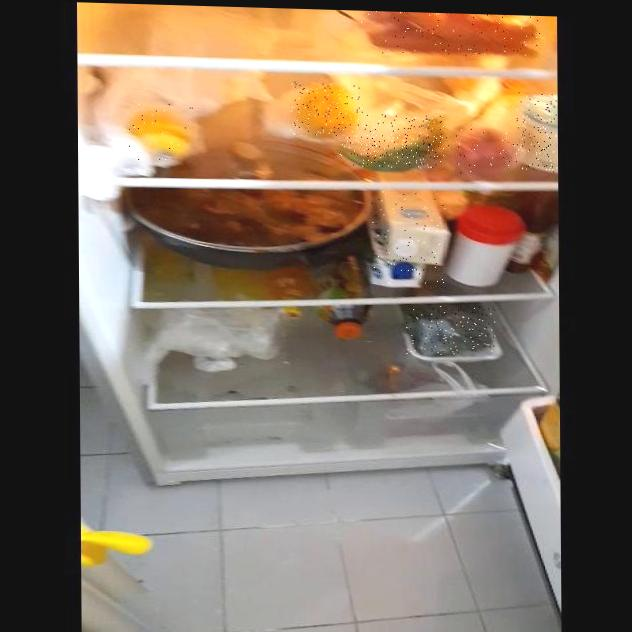broccoli: (406, 305, 496, 356)
carrot: (360, 11, 542, 58)
green chilies: (340, 113, 444, 169)
lemon: (128, 103, 197, 163), (291, 81, 363, 137)
milk: (372, 191, 447, 286)
tomato: (446, 126, 519, 175)
yoghurt: (516, 92, 557, 172)
